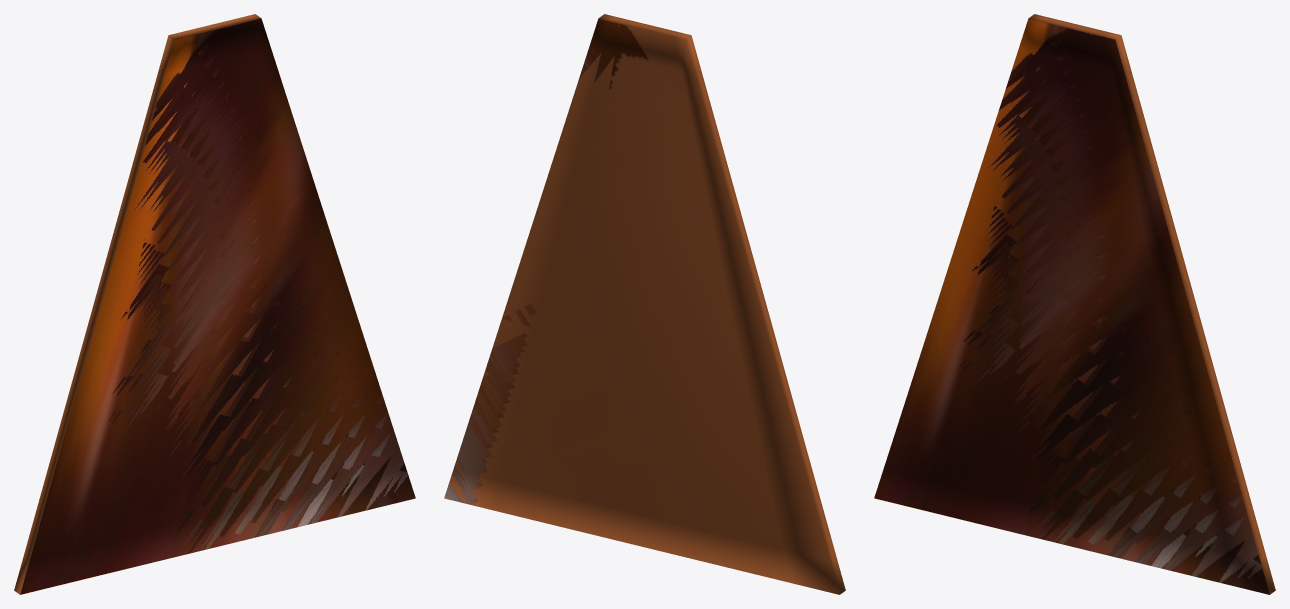
The picture shows the model from 3 angles, left to right: view 1: azimuth 30°, elevation 25°; view 2: azimuth 150°, elevation 25°; view 3: azimuth 330°, elevation 25°; orthographic projection.
Parts seen in each view (by area): view 1: tea_sachet__body; view 2: tea_sachet__body; view 3: tea_sachet__body.
Part boxes in pixels (x1,y1,x2,y2): tea_sachet__body: (14,14,415,594); tea_sachet__body: (444,14,845,594); tea_sachet__body: (874,14,1275,594).
Bounding box in the file's own units: 0.0566 × 0.0707 × 0.00377.
3 materials, 2 textured.
